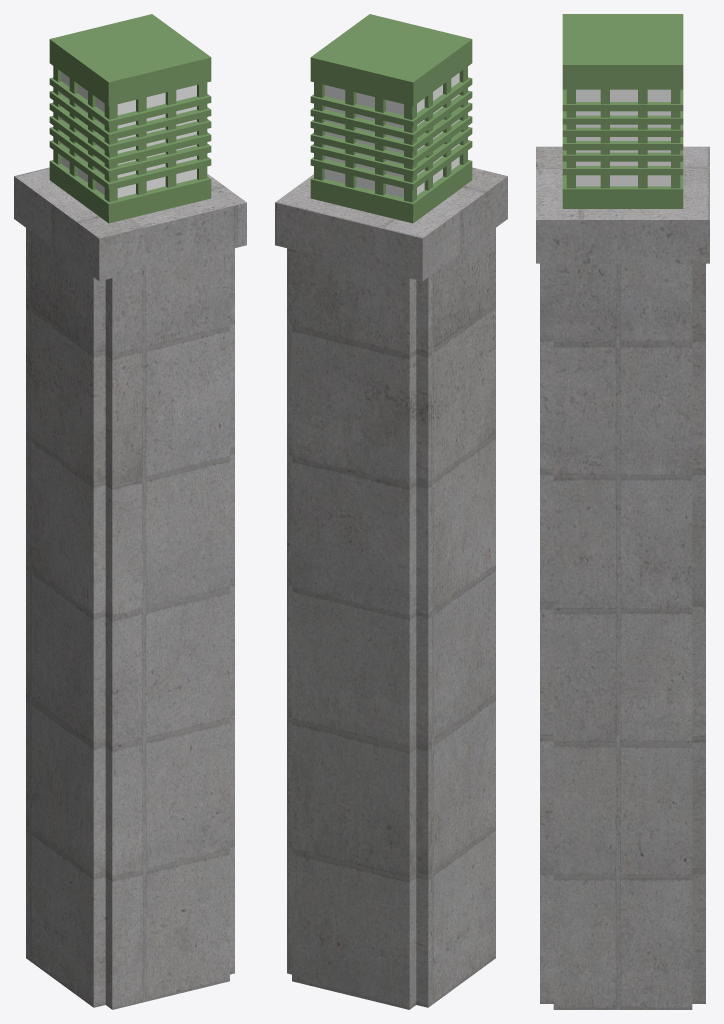
Rendered from colum_3.FBX.
3 views of the same model, side by side, from view 1: azimuth 30°, elevation 25°; view 2: azimuth 150°, elevation 25°; view 3: azimuth 270°, elevation 25° (orthographic).
Parts seen in each view (by area): view 1: 4zhu_140; view 2: 4zhu_140; view 3: 4zhu_140.
Part boxes in pixels (x1,y1,x2,y2): 4zhu_140: (14,14,246,1009); 4zhu_140: (275,14,507,1009); 4zhu_140: (536,14,709,1009).
Bounding box in the file's own units: 732 × 4345 × 732.
